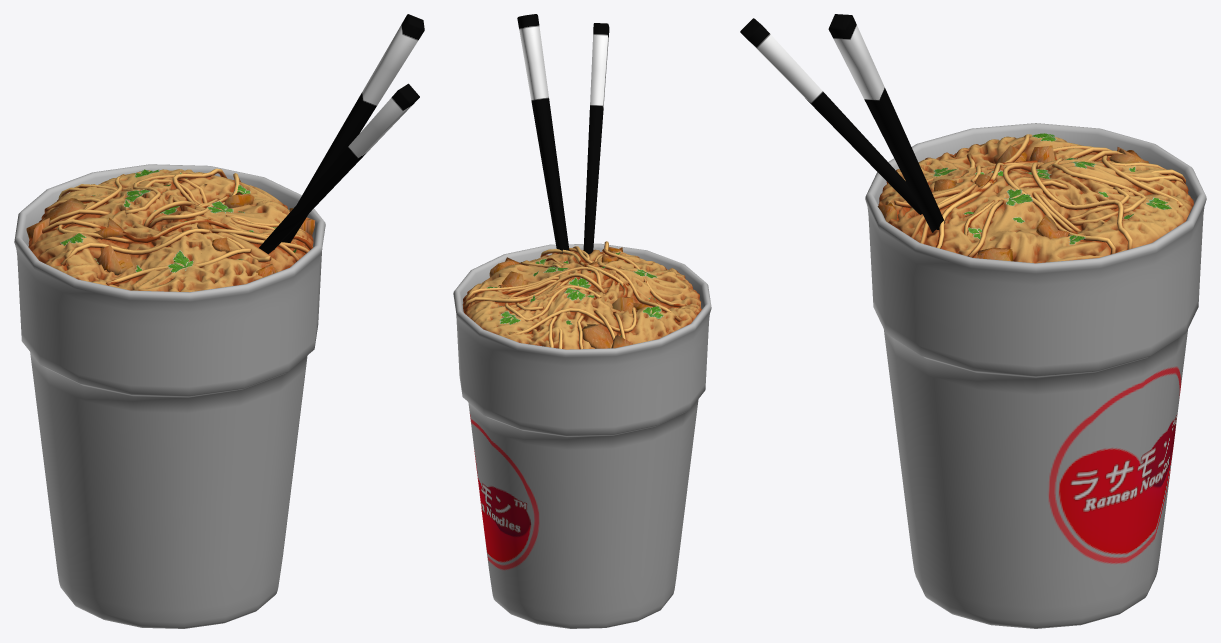
Rendered from ramen_noodles.glb.
3 views of the same model, side by side, from view 1: azimuth 30°, elevation 25°; view 2: azimuth 150°, elevation 25°; view 3: azimuth 270°, elevation 25° (orthographic). The views are drawn at different scales.
Visible parts, largest first — view 1: Object_3; view 2: Object_3; view 3: Object_3.
Part boxes in pixels (x1=…): Object_3: x1=14, y1=14, x2=424, y2=628; Object_3: x1=453, y1=14, x2=711, y2=628; Object_3: x1=740, y1=14, x2=1206, y2=628.
Size of the model in its own units: 2.83 by 5.34 by 3.49.
1 material, 1 textured.
